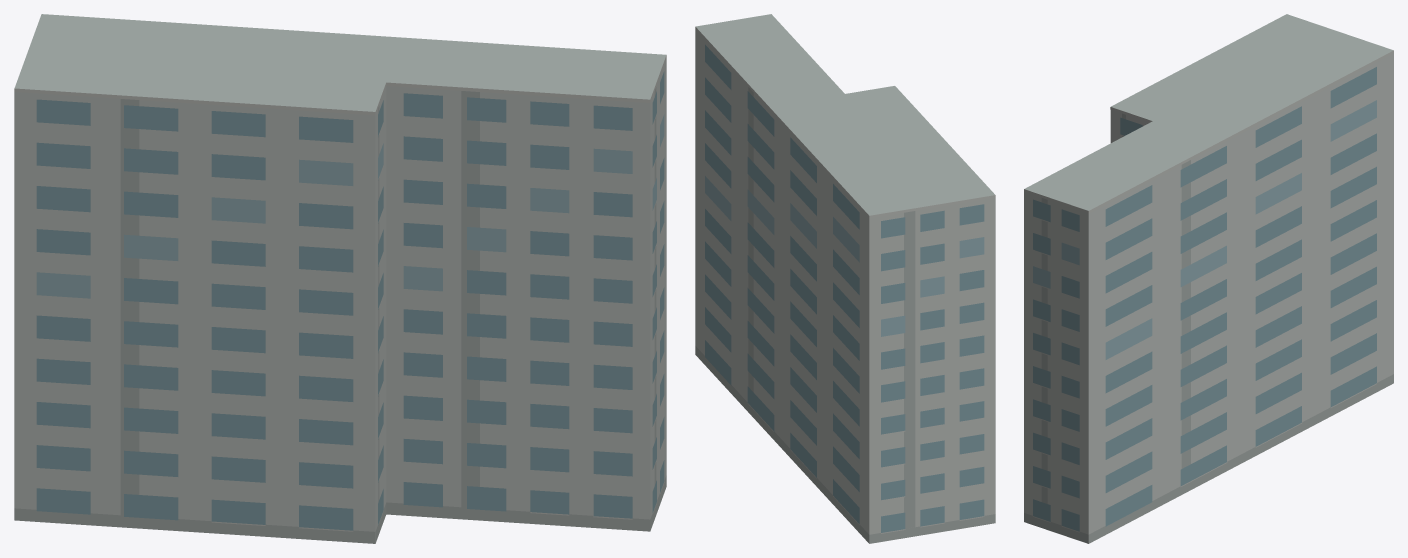
The model's file is residential-9fa0e3a4-6db3-43ff-98f2-95563c4f3d94.glb.
3 renders of one model, left to right at view 1: azimuth 30°, elevation 25°; view 2: azimuth 150°, elevation 25°; view 3: azimuth 270°, elevation 25°, orthographic. The views are drawn at different scales.
Parts seen in each view (by area): view 1: residential-9fa0e3a4-6db3-43ff-98f2-95563c4f3d94.tmp; view 2: residential-9fa0e3a4-6db3-43ff-98f2-95563c4f3d94.tmp; view 3: residential-9fa0e3a4-6db3-43ff-98f2-95563c4f3d94.tmp.
Part boxes in pixels (x1,y1,x2,y2): residential-9fa0e3a4-6db3-43ff-98f2-95563c4f3d94.tmp: (14, 14, 666, 543); residential-9fa0e3a4-6db3-43ff-98f2-95563c4f3d94.tmp: (695, 14, 995, 543); residential-9fa0e3a4-6db3-43ff-98f2-95563c4f3d94.tmp: (1024, 14, 1393, 543).
Bounding box in the file's own units: 38.07 × 30 × 30.21.
